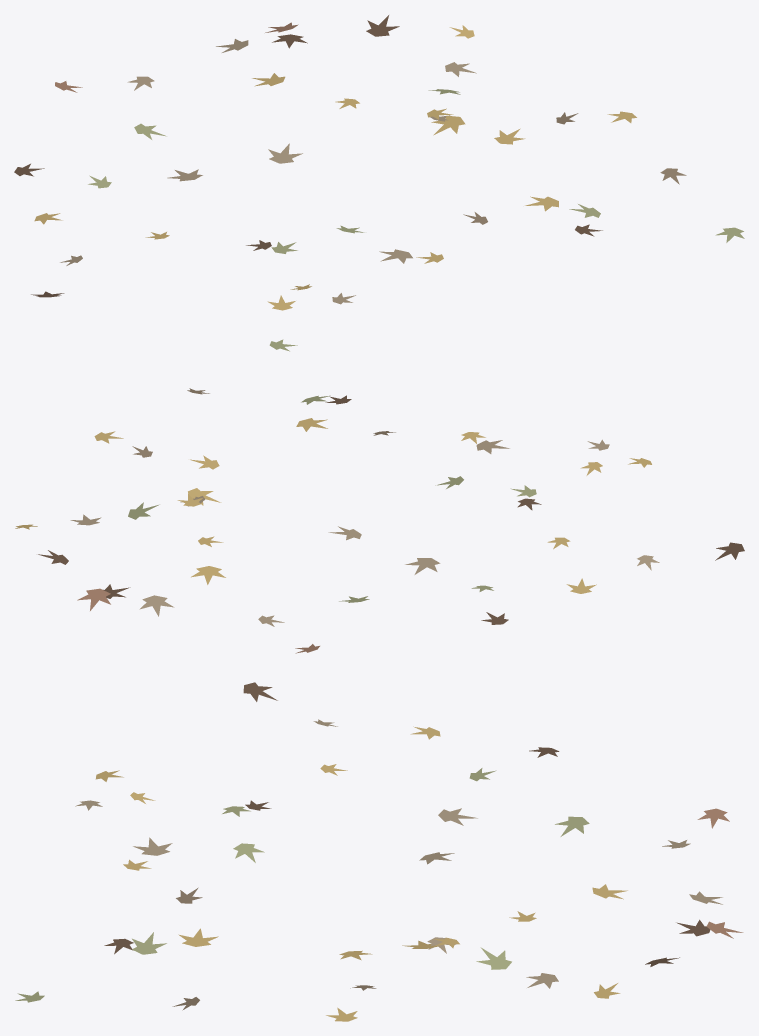
Rendered from leaf_litter_dense.fbx.
The picture shows the model from 3 angles, top to bottom: view 1: azimuth 30°, elevation 25°; view 2: azimuth 150°, elevation 25°; view 3: azimuth 270°, elevation 25°; orthographic projection. The views are drawn at different scales.
Parts seen in each view (by area): view 1: leaf_litter_dense; view 2: leaf_litter_dense; view 3: leaf_litter_dense.
Boxes of the visible parts, x1,y1,x2,y2 form: leaf_litter_dense: [14, 15, 744, 310]; leaf_litter_dense: [15, 339, 744, 653]; leaf_litter_dense: [15, 682, 743, 1021].
Bounding box in the file's own units: 1.38 × 1.27 × 0.0335.
